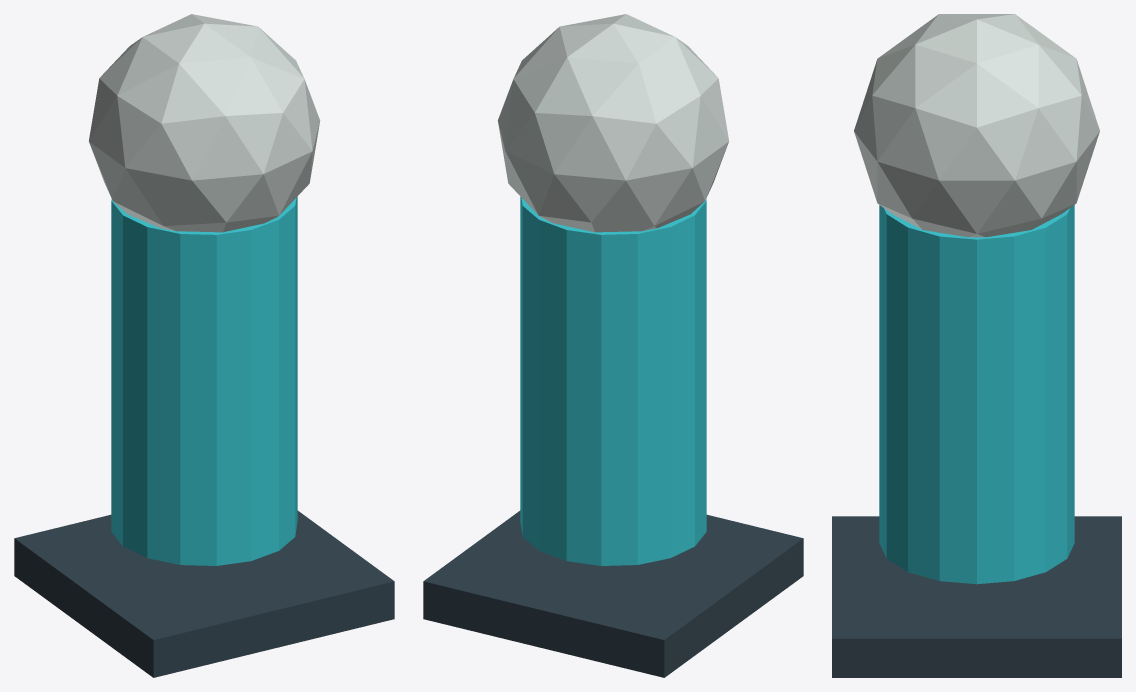
Rendered from agent-high.glb.
3 renders of one model, left to right at view 1: azimuth 30°, elevation 25°; view 2: azimuth 150°, elevation 25°; view 3: azimuth 270°, elevation 25°, orthographic. The views are drawn at different scales.
Parts seen in each view (by area): view 1: Agent_Body, Agent_Head, Agent_Base; view 2: Agent_Body, Agent_Head, Agent_Base; view 3: Agent_Body, Agent_Head, Agent_Base.
Boxes of the visible parts, <box> form: Agent_Body: <box>111,196,297,565</box>; Agent_Head: <box>89,14,320,232</box>; Agent_Base: <box>14,510,394,677</box>; Agent_Body: <box>520,196,706,565</box>; Agent_Head: <box>497,14,728,232</box>; Agent_Base: <box>423,510,803,677</box>; Agent_Body: <box>879,205,1074,584</box>; Agent_Head: <box>854,14,1099,237</box>; Agent_Base: <box>832,516,1121,677</box>.
Bounding box in the file's own units: 0.8 × 1.82 × 0.8.
